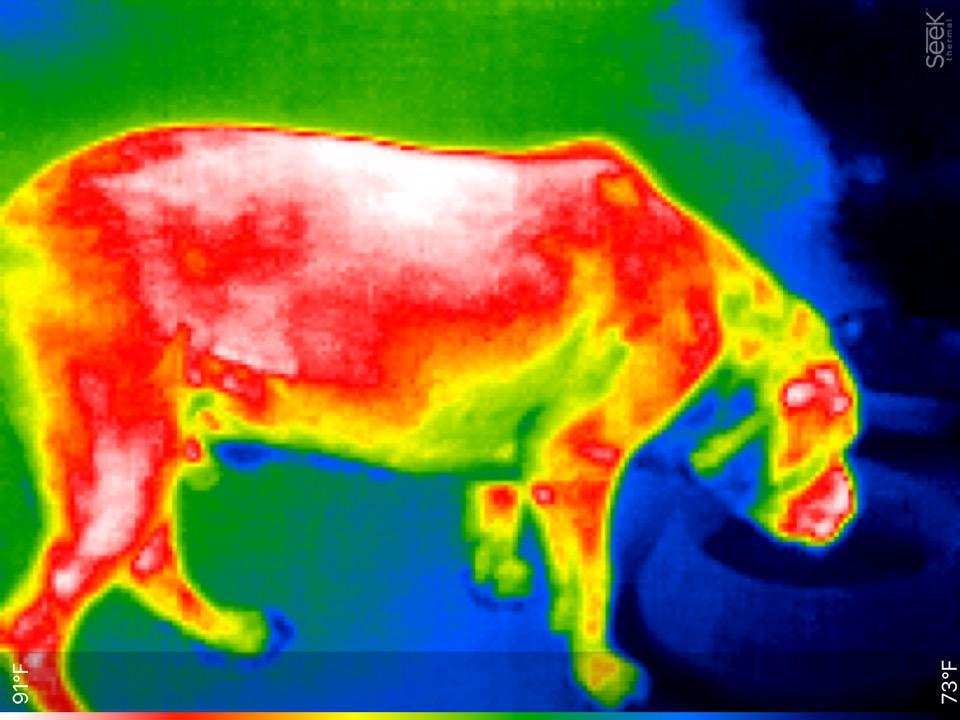dog: (2, 111, 868, 710)
